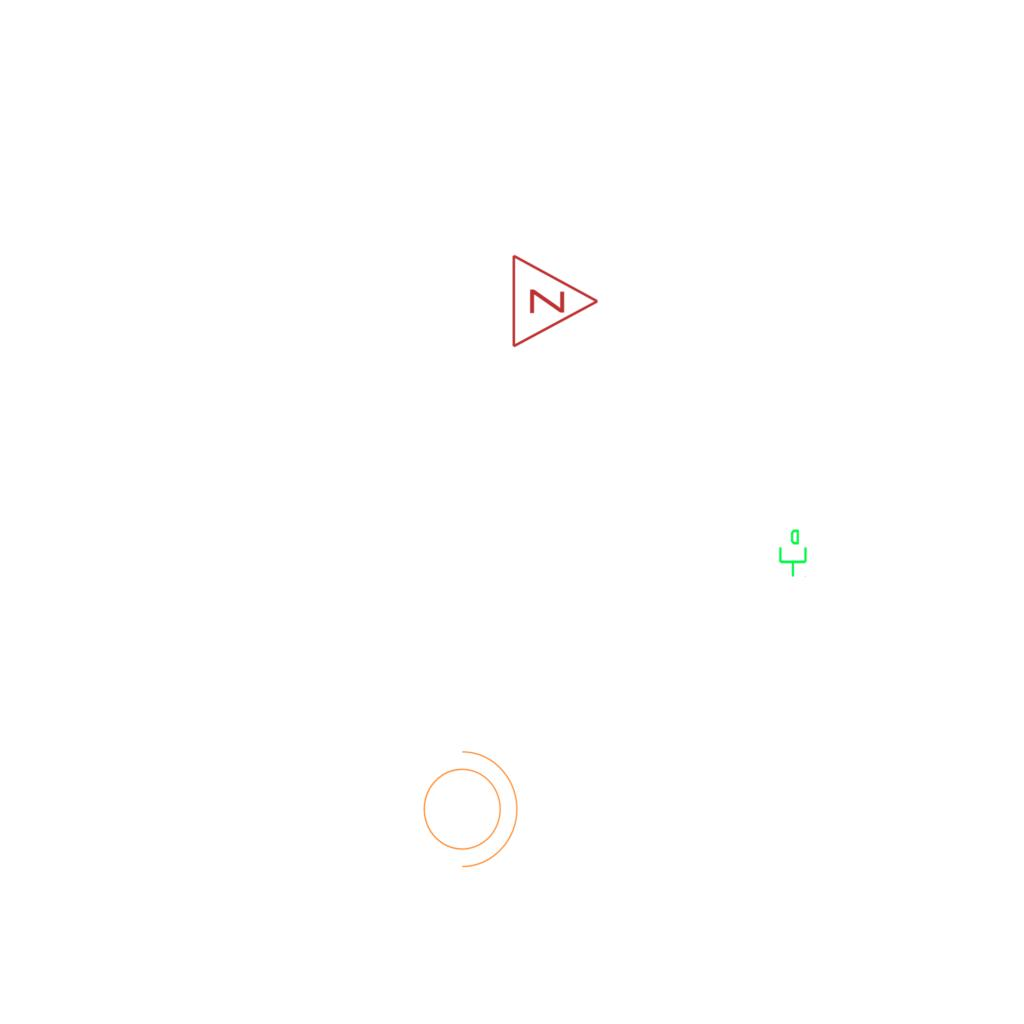Datenanschluss_einfach: (775, 528, 809, 578)
Scheinwerfer_fuer_Alarmbeleuchtung: (411, 740, 523, 872)
Zimmersignalleuchte: (505, 251, 605, 349)
